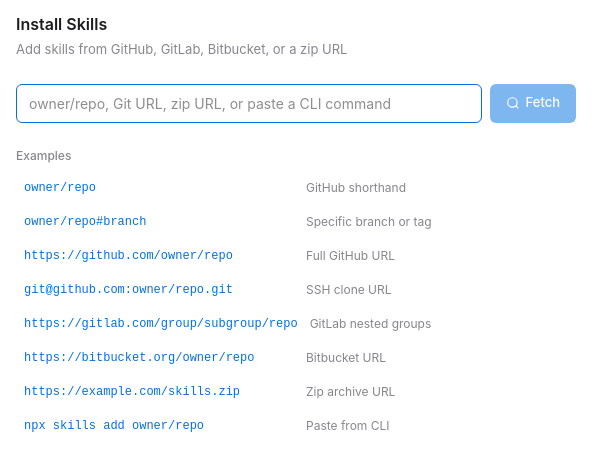
Scenario: InstallSkills › example buttons › fills with branch example
Step 1. Click the button with class "example" that starts with "owner/repo#branch" → (85, 222), box [16,206,576,236]
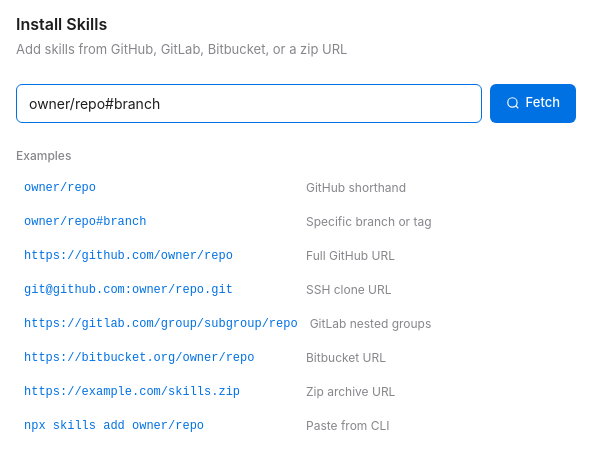
Result: the field holds "owner/repo#branch" at [16,84,482,122]
